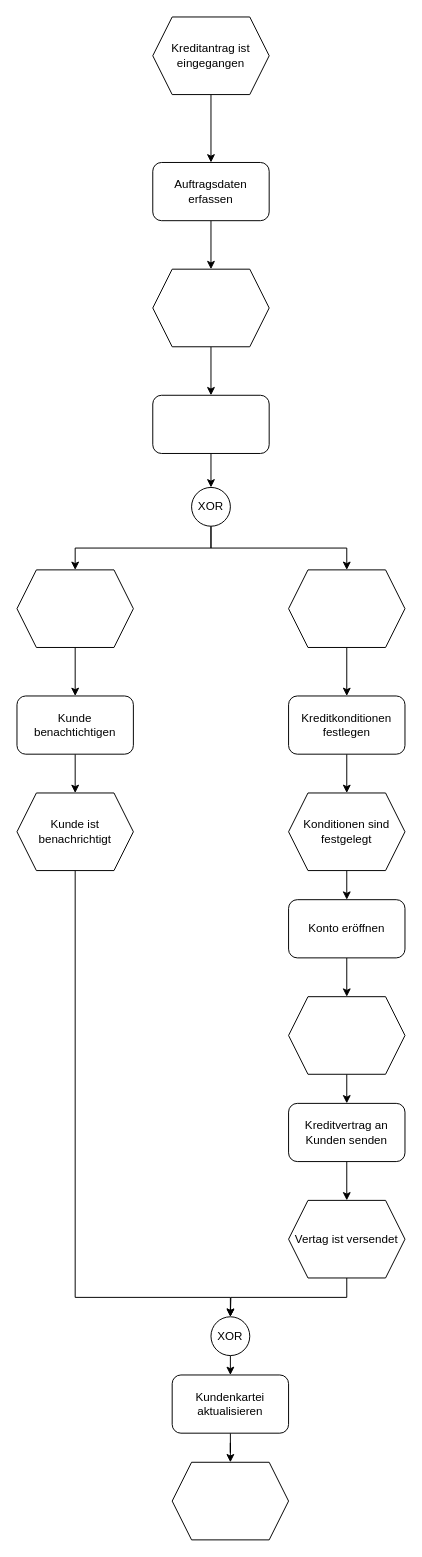
Some shapes in this 422 by 1557 pixel diagram are drawn without their labels. Each missing label, with the centre of its shape:
"Auftrag ist abgeschlossen" goes at point (230, 1500).
"Auftragsdaten sind erfasst" goes at point (210, 307).
"Konto is eröffnet" goes at point (346, 1035).
"Kreditwürdigkeit prüfen" goes at point (210, 423).
"Kunde ist kreditwürdig" goes at point (346, 608).
"Kunde ist nicht kreditwürdig" goes at point (74, 608).
